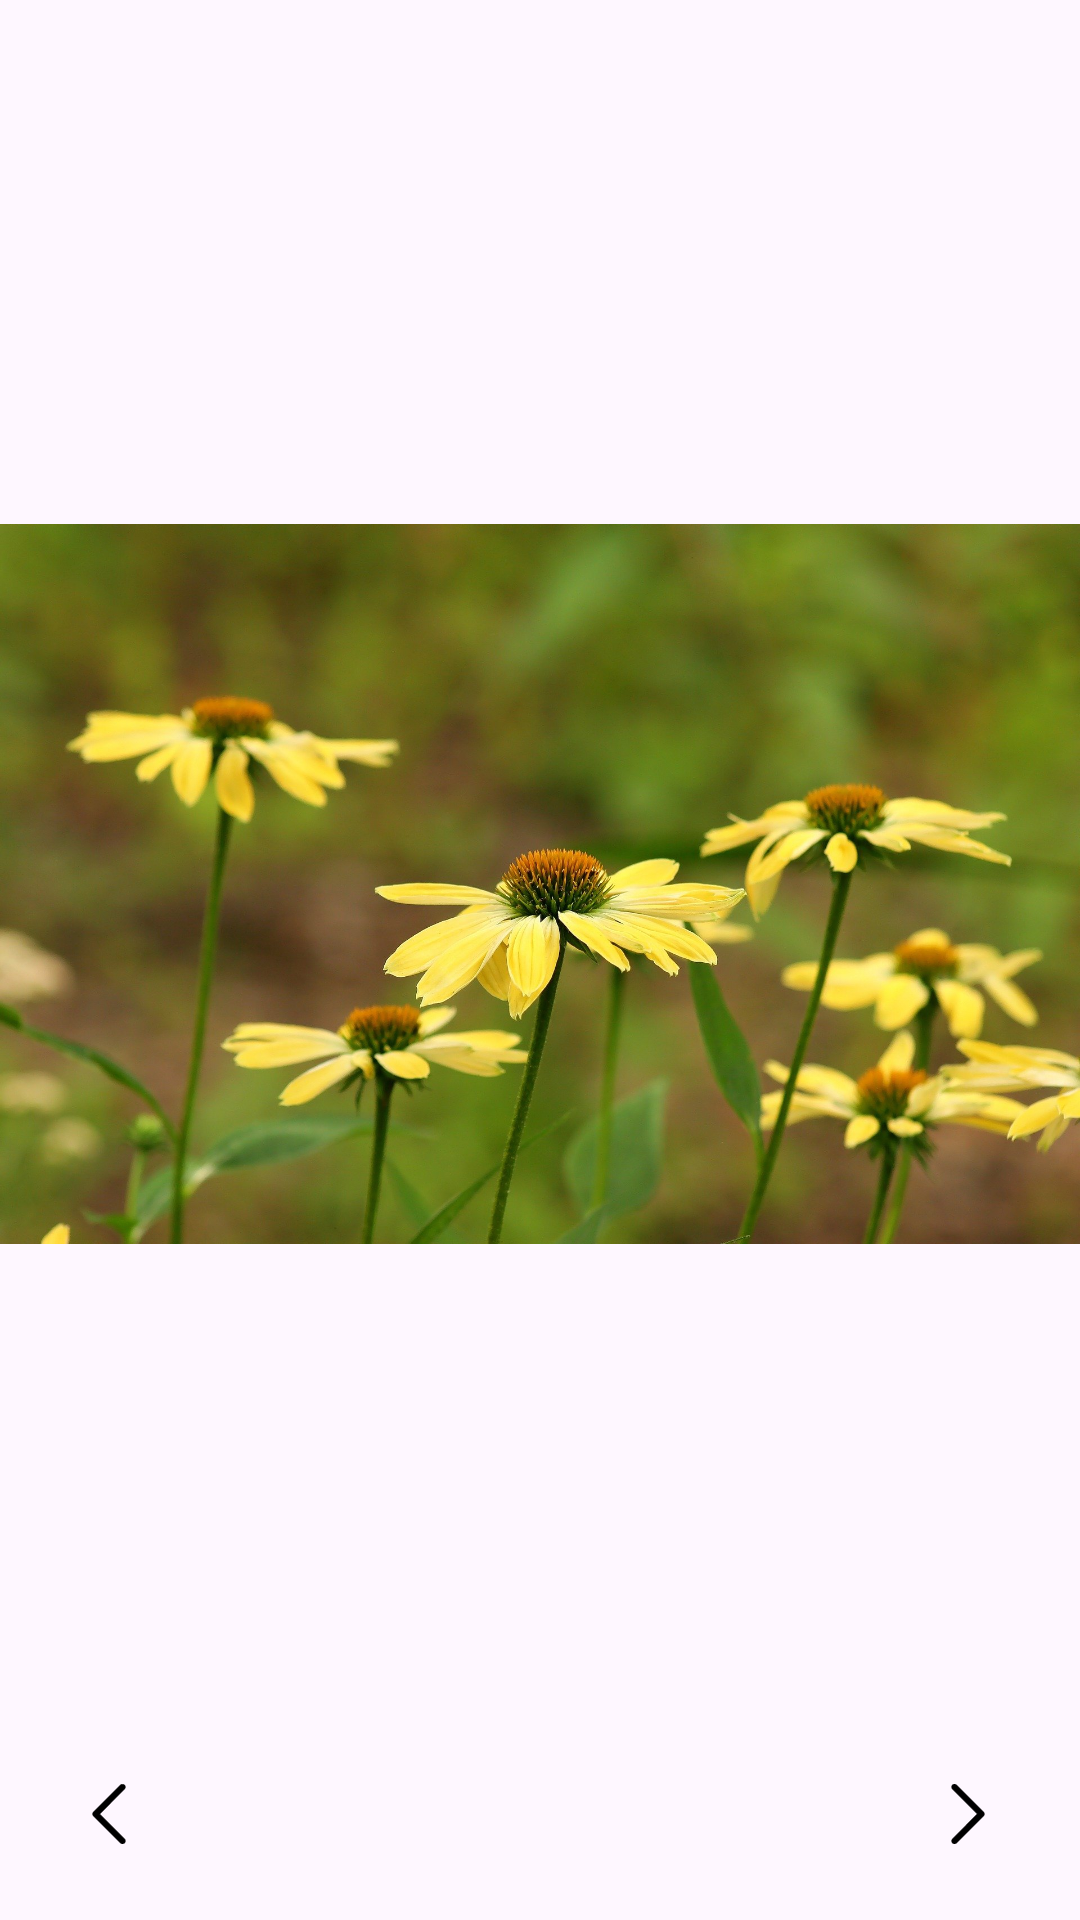

Where icons sit on this 1080 × 1920 app screen, as (x1, y1, x2, y2):
back: (92, 1784, 126, 1844)
next: (951, 1784, 985, 1844)
